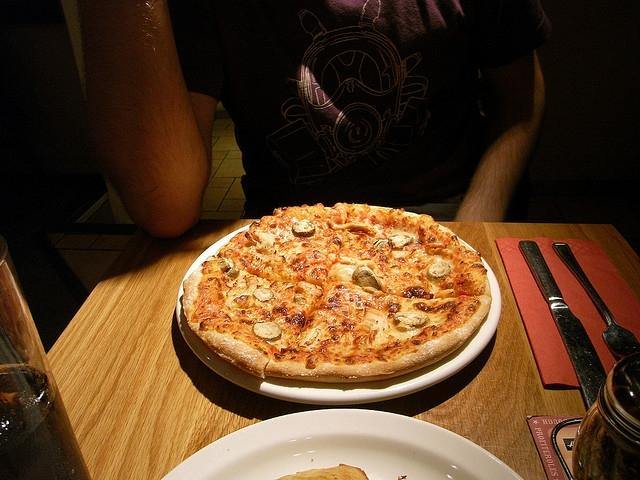mushroom: (352, 266, 382, 290), (392, 310, 428, 330), (252, 320, 282, 342), (388, 231, 414, 249), (426, 262, 450, 280), (292, 219, 316, 236), (252, 288, 274, 302), (217, 258, 230, 271), (227, 266, 240, 279), (293, 294, 307, 304)
